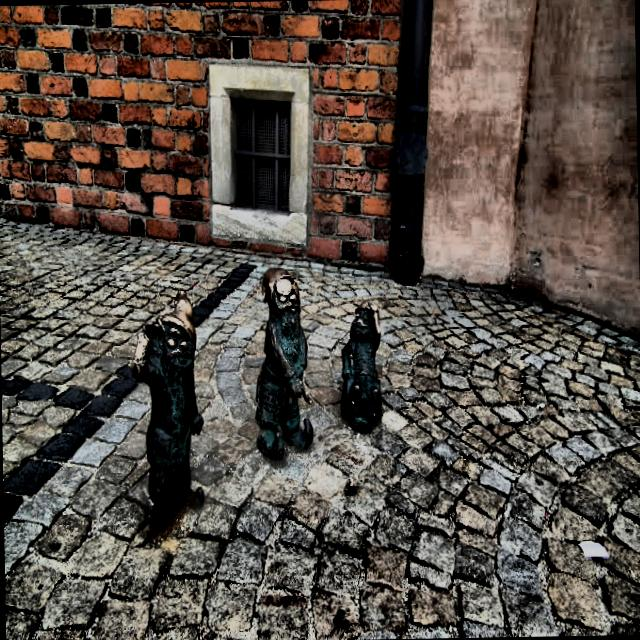Gluchak: (129, 289, 203, 524)
Slepak: (255, 267, 312, 458)
W-Skers: (342, 301, 380, 430)
